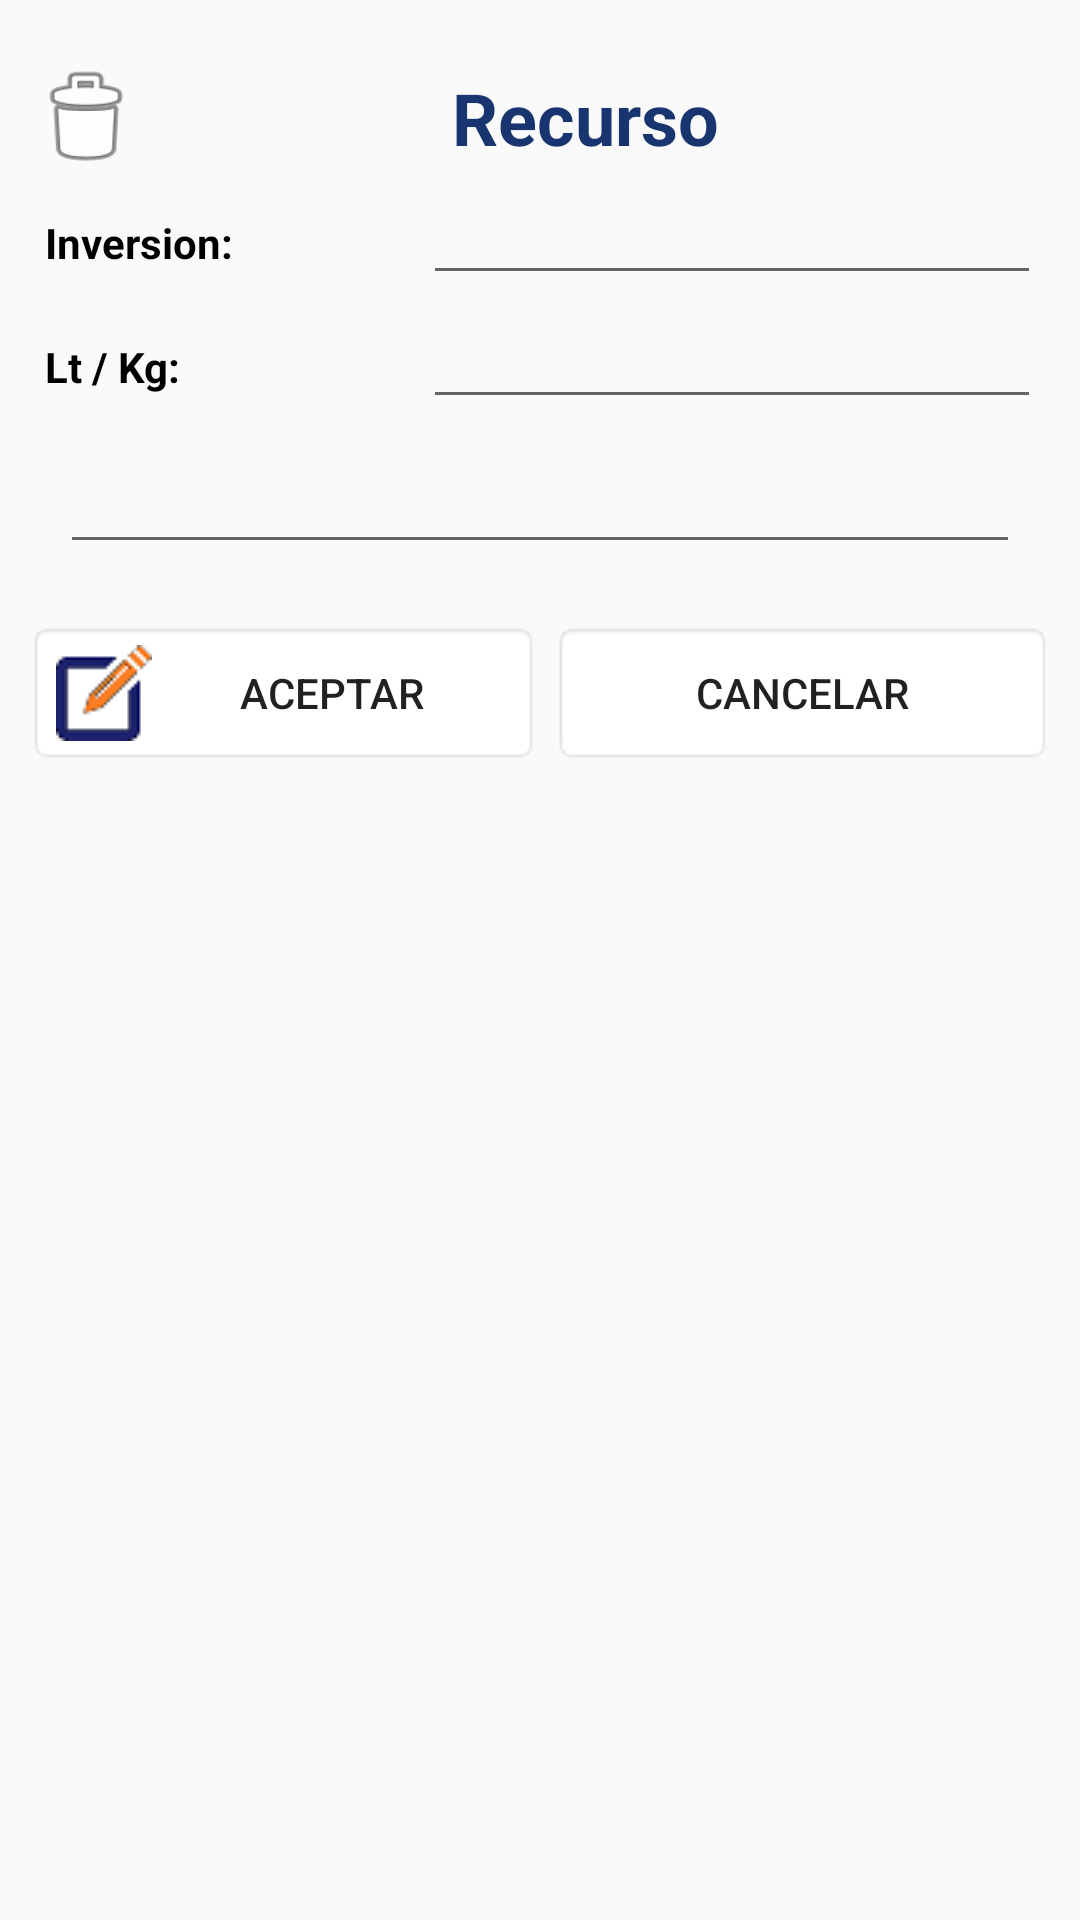

Screen size 1080 × 1920. Icon name, then its box in pixels as (x1, y1, x2, y2):
delete: (50, 72, 123, 161)
